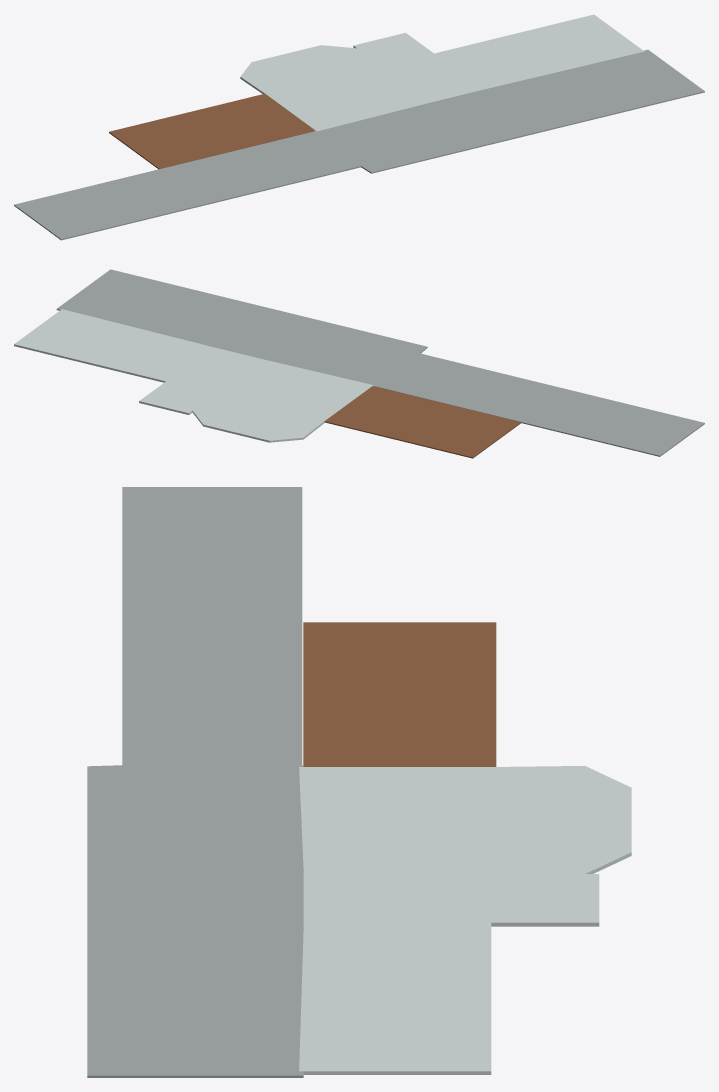
File: lab_floor.fbx
3 renders of one model, top to bottom at view 1: azimuth 30°, elevation 25°; view 2: azimuth 150°, elevation 25°; view 3: azimuth 270°, elevation 25°, orthographic. The views are drawn at different scales.
Parts seen in each view (by area): view 1: LabFloor_Balcony; view 2: LabFloor_Balcony; view 3: LabFloor_Balcony.
Boxes of the visible parts, x1,y1,x2,y2 form: LabFloor_Balcony: (14,14,704,240); LabFloor_Balcony: (14,269,704,458); LabFloor_Balcony: (87,487,631,1077).
Size of the model in its own units: 5505 by 16.34 by 2150.
